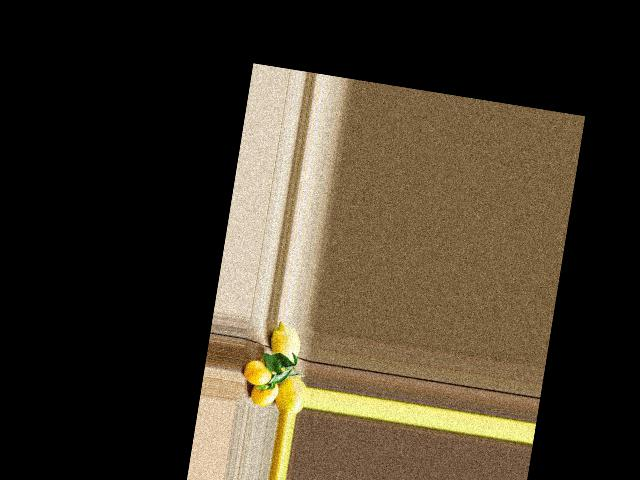lemon: (262, 320, 304, 370)
